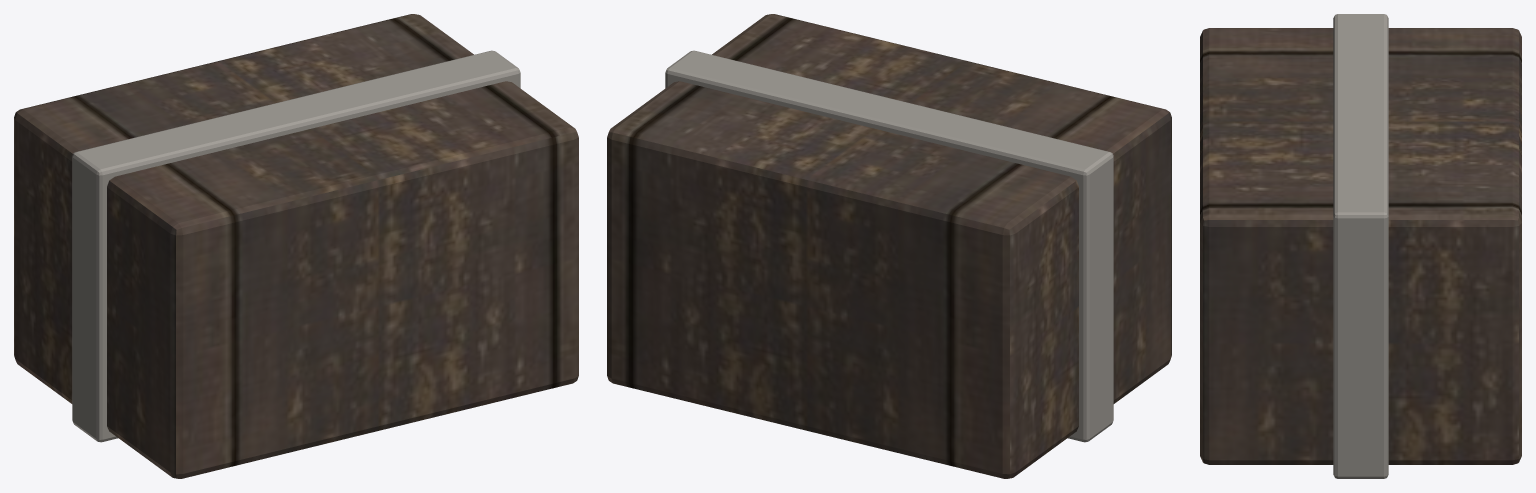
The model's file is rail_kit.glb.
3 views of the same model, side by side, from view 1: azimuth 30°, elevation 25°; view 2: azimuth 150°, elevation 25°; view 3: azimuth 270°, elevation 25° (orthographic). The views are drawn at different scales.
Parts seen in each view (by area): view 1: crate, band; view 2: crate, band; view 3: crate, band.
Boxes of the visible parts, x1,y1,x2,y2 form: crate: [14, 14, 578, 478]; band: [72, 50, 520, 442]; crate: [607, 14, 1171, 478]; band: [665, 50, 1113, 442]; crate: [1200, 28, 1521, 464]; band: [1333, 14, 1388, 478].
Size of the model in its own units: 0.52 by 0.32 by 0.35.
2 materials, 1 textured.
